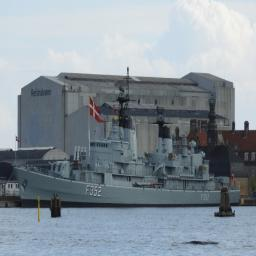Fragata: (15, 115, 245, 212)
